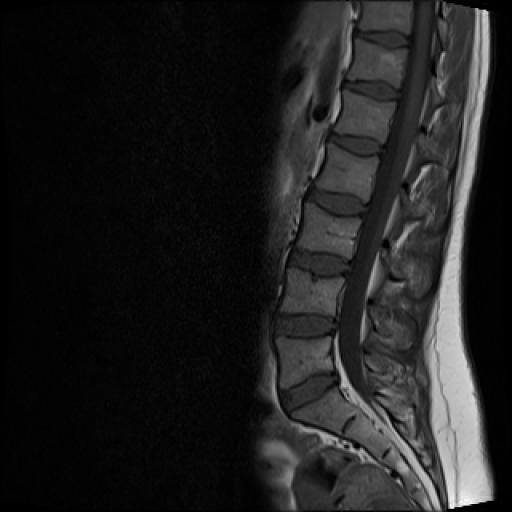L1: (334, 90, 396, 142)
L2: (315, 143, 378, 202)
L3: (296, 202, 362, 260)
L4: (280, 270, 342, 316)
L5: (275, 336, 334, 388)
S1: (291, 386, 359, 436)
